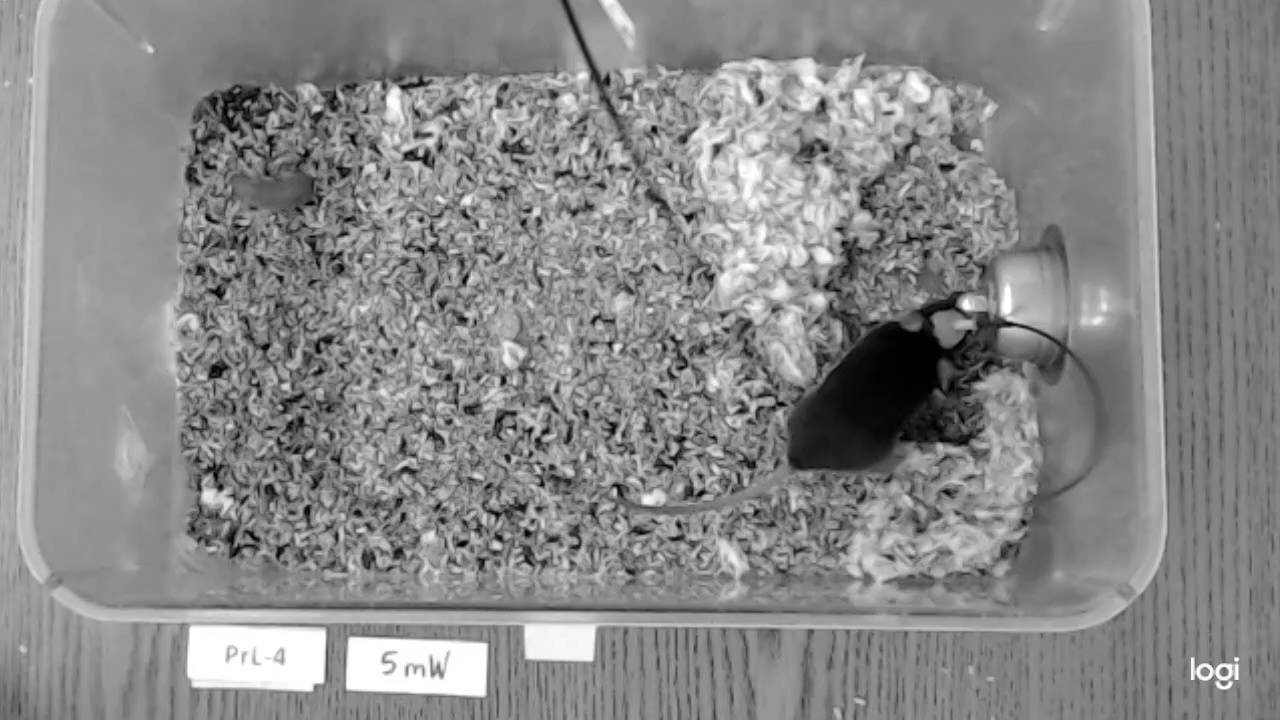parent-mice: (788, 293, 963, 470)
